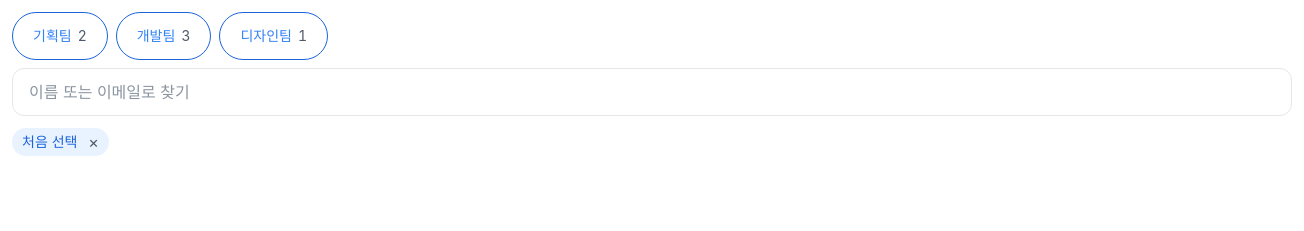
AttendeePicker directory search › refreshes filtering after selected changes to a different collection of the same length
This screenshot has width=1304, height=231.
Type "new" into the field named "참석자 검색" at x=652, y=92, box [12,68,1292,116]
Wait 250 ms
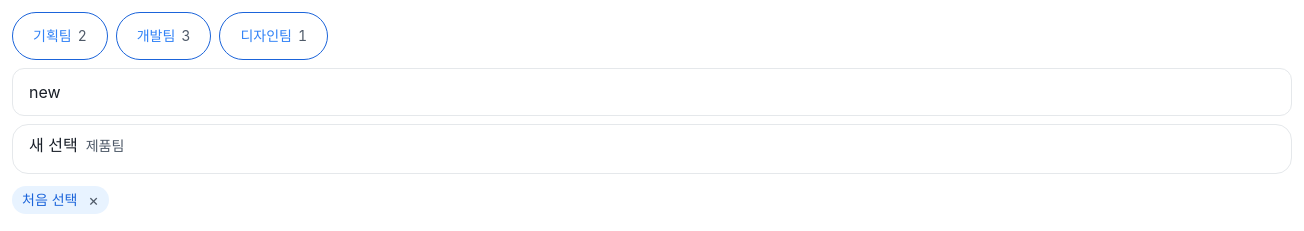
Expected: the list with class "mr-picker__results" is shown, [12,124,1292,174]
